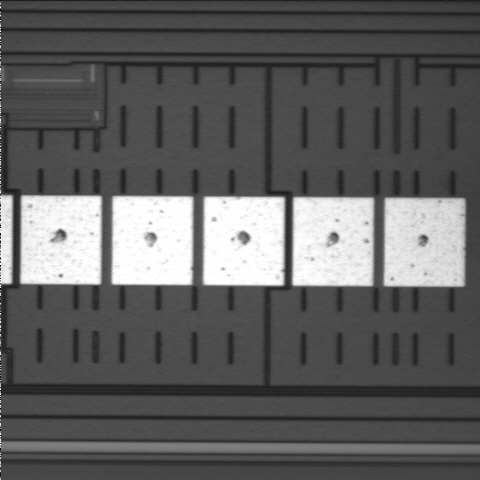pad: (292, 197, 374, 286), (21, 196, 102, 285), (112, 196, 193, 285), (203, 197, 284, 286), (384, 198, 465, 286)
